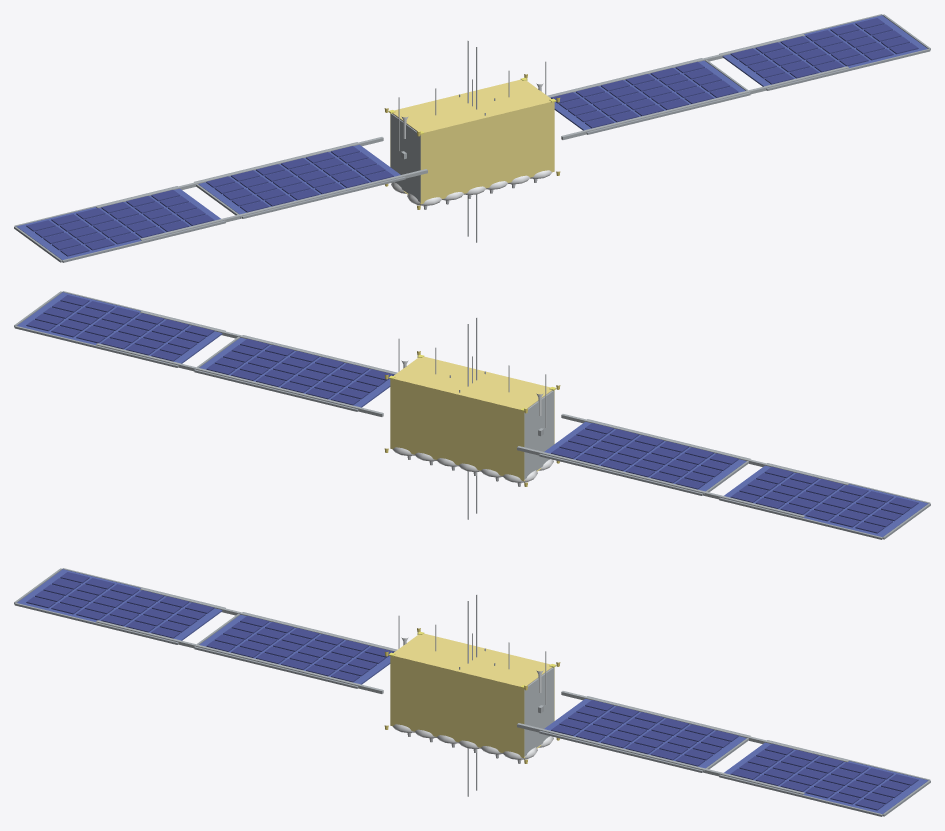
3 views of the same model, one above another, from view 1: azimuth 30°, elevation 25°; view 2: azimuth 150°, elevation 25°; view 3: azimuth 330°, elevation 25° (orthographic).
Visible parts, largest first — view 1: b14, b12, b132, b64, b4, b30, b98, b170, b167, b168, b171, b129 (+3 smaller); view 2: b15, b12, b132, b64, b4, b30, b98, b171, b168, b167, b170, b130 (+3 smaller); view 3: b14, b12, b64, b132, b3, b98, b30, b167, b170, b171, b168, b61 (+3 smaller).
Boxes of the visible parts, box(x1,y1,x2,y2) form: b14: box(420, 102, 554, 204); b12: box(393, 79, 551, 132); b132: box(722, 15, 927, 86); b64: box(16, 188, 220, 259); b4: box(390, 113, 420, 202); b30: box(198, 144, 400, 214); b98: box(554, 60, 745, 130); b170: box(561, 66, 848, 139); b167: box(140, 169, 427, 240); b168: box(96, 137, 383, 208); b171: box(548, 34, 804, 97); b129: box(586, 92, 750, 134); b15: box(390, 379, 524, 481); b12: box(393, 356, 551, 409); b132: box(17, 292, 222, 363); b64: box(724, 465, 928, 536); b4: box(524, 390, 554, 479); b30: box(544, 421, 746, 491); b98: box(199, 337, 390, 407); b171: box(96, 343, 383, 416); b168: box(517, 446, 804, 517); b167: box(561, 414, 848, 485); b170: box(140, 311, 396, 374); b130: box(194, 369, 358, 411); b14: box(390, 656, 524, 758); b12: box(393, 633, 551, 686); b64: box(17, 569, 222, 640); b132: box(724, 742, 928, 813); b3: box(524, 667, 554, 756); b98: box(544, 698, 746, 768); b30: box(199, 614, 390, 684); b167: box(96, 620, 383, 693); b170: box(517, 723, 804, 794); b171: box(561, 691, 848, 762); b168: box(140, 588, 396, 651); b61: box(194, 646, 358, 688).
Size of the model in its own units: 11.86 by 2.55 by 1.14.
